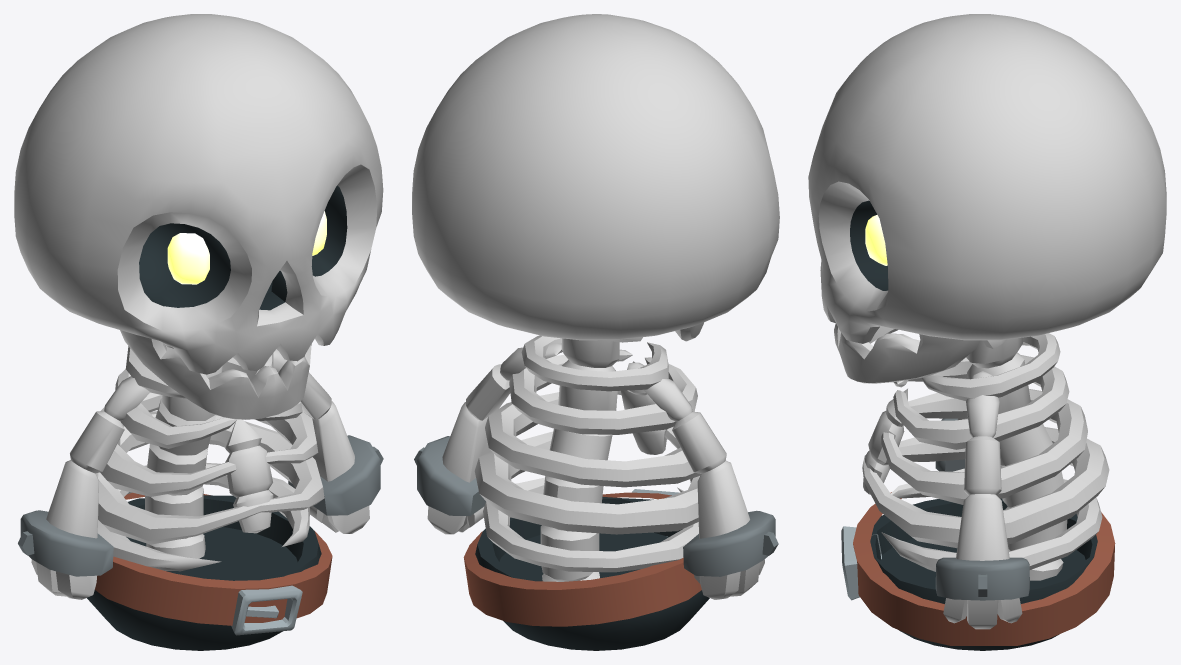
File: character_skeleton_minion.gltf
3 views of the same model, side by side, from view 1: azimuth 30°, elevation 25°; view 2: azimuth 150°, elevation 25°; view 3: azimuth 270°, elevation 25° (orthographic).
Visible parts, largest first — view 1: character_skeleton_minion_head, character_skeleton_minion_body, character_skeleton_minion_armRight, character_skeleton_minion_jaw, character_skeleton_minion_armLeft, character_skeleton_minion_eyes; view 2: character_skeleton_minion_head, character_skeleton_minion_body, character_skeleton_minion_armRight, character_skeleton_minion_armLeft; view 3: character_skeleton_minion_head, character_skeleton_minion_body, character_skeleton_minion_armLeft, character_skeleton_minion_jaw, character_skeleton_minion_eyes.
Boxes of the visible parts, <box> form: character_skeleton_minion_head: <box>14,14,383,374</box>; character_skeleton_minion_body: <box>87,344,332,650</box>; character_skeleton_minion_armRight: <box>18,376,150,599</box>; character_skeleton_minion_jaw: <box>120,330,311,419</box>; character_skeleton_minion_armLeft: <box>273,349,383,533</box>; character_skeleton_minion_eyes: <box>167,211,326,284</box>; character_skeleton_minion_head: <box>412,14,779,340</box>; character_skeleton_minion_body: <box>463,335,709,650</box>; character_skeleton_minion_armRight: <box>627,362,778,599</box>; character_skeleton_minion_armLeft: <box>414,343,561,534</box>; character_skeleton_minion_head: <box>808,14,1166,343</box>; character_skeleton_minion_body: <box>841,333,1115,650</box>; character_skeleton_minion_armLeft: <box>935,371,1029,629</box>; character_skeleton_minion_jaw: <box>834,323,979,383</box>; character_skeleton_minion_eyes: <box>865,215,887,265</box>.
Bounding box in the file's own units: 1.06 × 1.63 × 0.9162.
